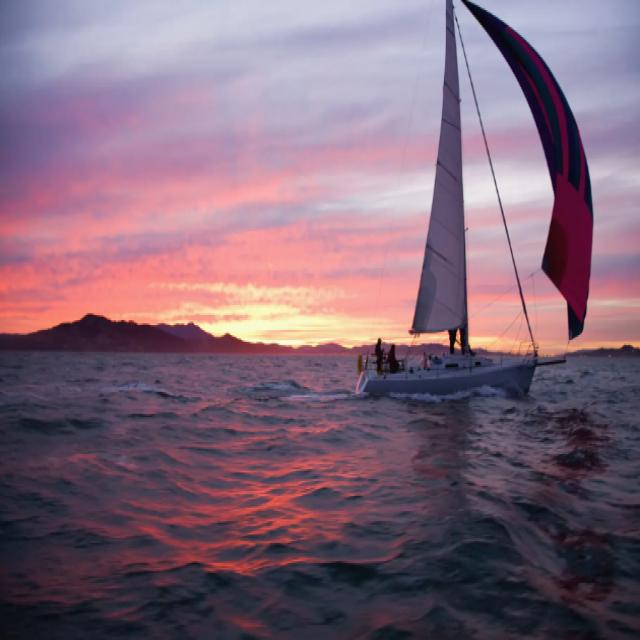sailboat: (362, 0, 598, 404)
